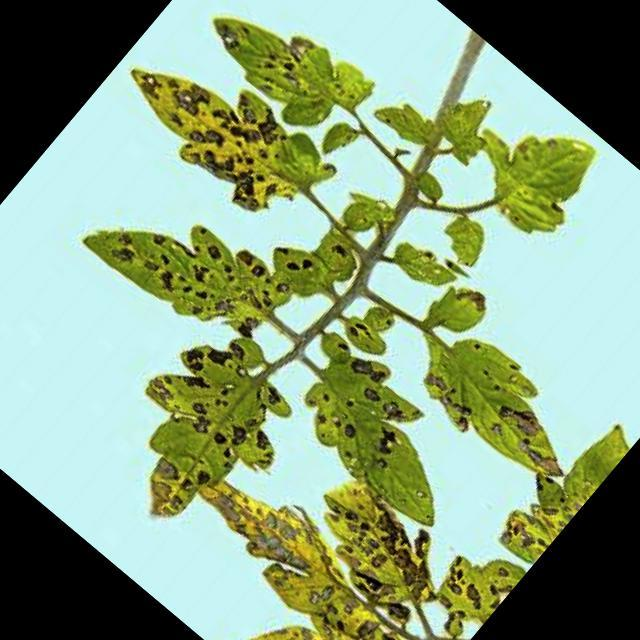Tomato Septoria spot leaf: (126, 444, 467, 640), (79, 300, 327, 556), (94, 11, 350, 250), (62, 145, 308, 377), (376, 268, 620, 501), (264, 314, 506, 544), (281, 458, 469, 638), (187, 0, 382, 158), (447, 82, 616, 250), (485, 395, 640, 568), (417, 527, 529, 640), (259, 228, 344, 310)
